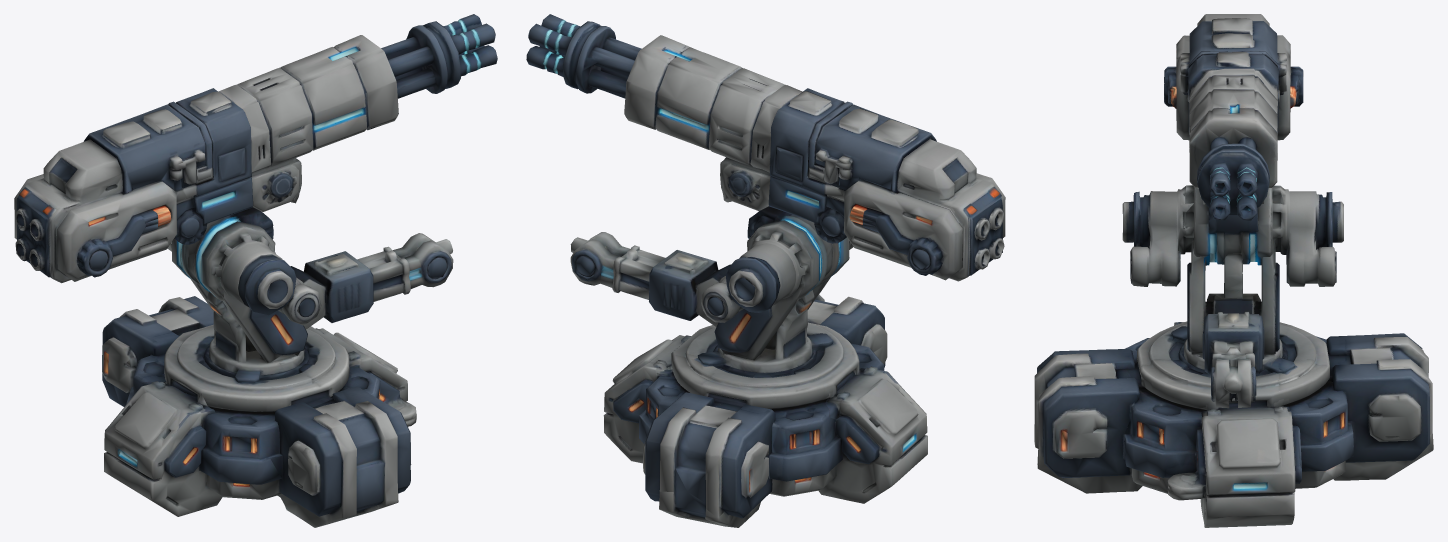
Rendered from Casa3.glb.
3 views of the same model, side by side, from view 1: azimuth 30°, elevation 25°; view 2: azimuth 150°, elevation 25°; view 3: azimuth 270°, elevation 25° (orthographic). The views are drawn at different scales.
Visible parts, largest first — view 1: tripo_part_0, tripo_part_1, tripo_part_15, tripo_part_2, tripo_part_5, tripo_part_4, tripo_part_17, tripo_part_9, tripo_part_11, tripo_part_6, tripo_part_3, tripo_part_8 (+7 smaller); view 2: tripo_part_0, tripo_part_1, tripo_part_17, tripo_part_2, tripo_part_5, tripo_part_4, tripo_part_7, tripo_part_11, tripo_part_6, tripo_part_8, tripo_part_16, tripo_part_15 (+6 smaller); view 3: tripo_part_1, tripo_part_0, tripo_part_15, tripo_part_17, tripo_part_16, tripo_part_9, tripo_part_7, tripo_part_4, tripo_part_6, tripo_part_3, tripo_part_11, tripo_part_8 (+4 smaller).
Part boxes in pixels (bbox=[...]): tripo_part_0: bbox=[14, 35, 398, 281]; tripo_part_1: bbox=[126, 324, 380, 499]; tripo_part_15: bbox=[270, 386, 411, 527]; tripo_part_2: bbox=[104, 381, 222, 516]; tripo_part_5: bbox=[15, 136, 122, 283]; tripo_part_4: bbox=[381, 14, 497, 98]; tripo_part_17: bbox=[102, 296, 213, 406]; tripo_part_9: bbox=[216, 235, 321, 325]; tripo_part_11: bbox=[304, 246, 410, 322]; tripo_part_6: bbox=[190, 266, 325, 362]; tripo_part_3: bbox=[181, 207, 275, 308]; tripo_part_8: bbox=[207, 292, 304, 382]; tripo_part_0: bbox=[624, 35, 1005, 280]; tripo_part_1: bbox=[639, 322, 884, 496]; tripo_part_17: bbox=[643, 392, 779, 518]; tripo_part_2: bbox=[818, 363, 927, 503]; tripo_part_5: bbox=[821, 135, 1004, 281]; tripo_part_4: bbox=[526, 14, 641, 98]; tripo_part_7: bbox=[701, 234, 805, 322]; tripo_part_11: bbox=[612, 245, 718, 320]; tripo_part_6: bbox=[696, 264, 828, 360]; tripo_part_8: bbox=[697, 290, 833, 372]; tripo_part_16: bbox=[603, 335, 690, 463]; tripo_part_15: bbox=[807, 294, 885, 367]; tripo_part_1: bbox=[1124, 321, 1353, 493]; tripo_part_0: bbox=[1168, 18, 1303, 204]; tripo_part_15: bbox=[1034, 349, 1142, 493]; tripo_part_17: bbox=[1326, 333, 1432, 462]; tripo_part_16: bbox=[1190, 406, 1297, 527]; tripo_part_9: bbox=[1122, 186, 1193, 286]; tripo_part_7: bbox=[1274, 189, 1343, 286]; tripo_part_4: bbox=[1197, 127, 1269, 220]; tripo_part_6: bbox=[1187, 241, 1279, 353]; tripo_part_3: bbox=[1185, 185, 1258, 264]; tripo_part_11: bbox=[1202, 311, 1264, 374]; tripo_part_8: bbox=[1170, 253, 1295, 374].
Bounding box in the file's own units: 0.9805 × 0.8133 × 0.7143.
Materials: 1 (1 with a texture image).
